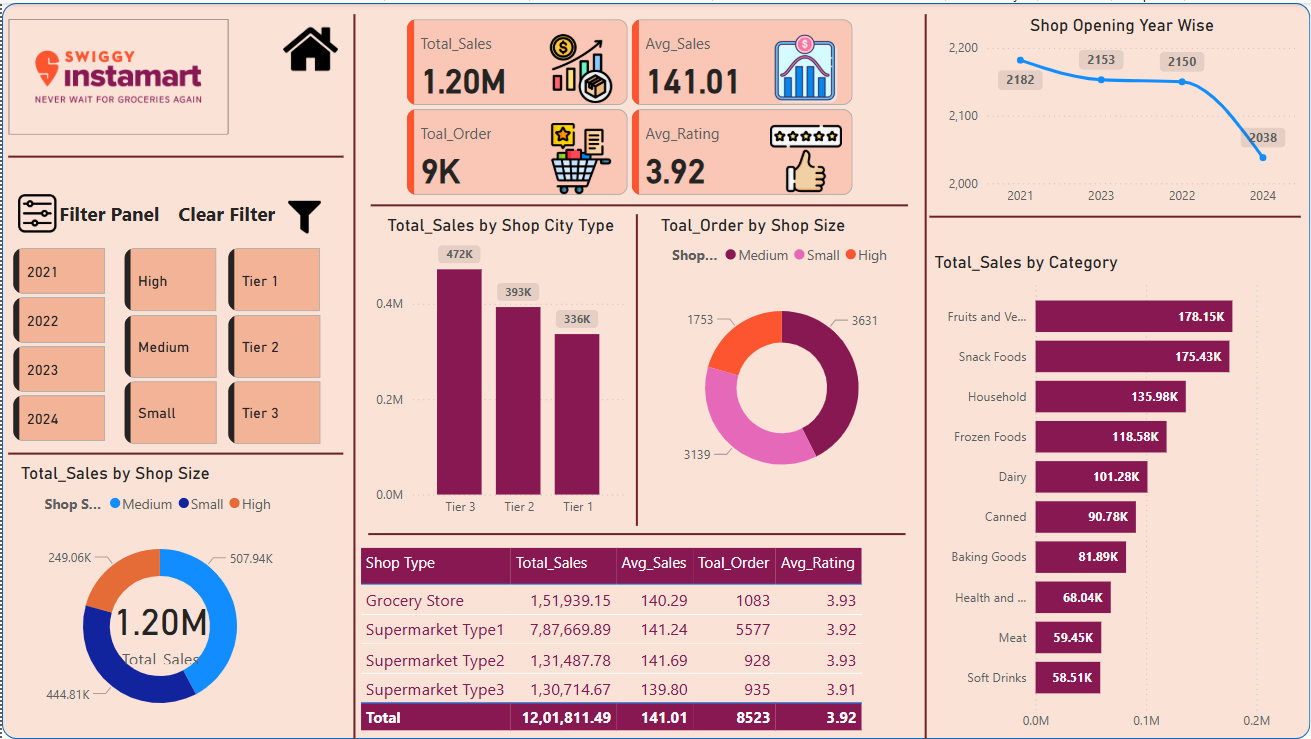

This screenshot's page, from the dashboard's own definition file:
{"tool":"powerbi","page":{"name":"INSTA MART DAHBOARD","canvas":[1280,720],"ordinal":0},"visuals":[{"type":"shape","box":[0,0,1280.3,720.2],"z":0},{"type":"image","box":[0,11,228.7,122.3],"z":1000},{"type":"cardVisual","fields":{"Data":["Grocery Shop.Total_Sales","Grocery Shop.Avg_Sales","Grocery Shop.Toal_Order","Grocery Shop.Avg_Rating"]},"box":[391.3,11,446.3,183.4],"z":2000},{"type":"donutChart","fields":{"Category":["Grocery Shop.Shop Size"],"Y":["Grocery Shop.Total_Sales"]},"box":[13.5,450,282.5,270.2],"z":3000},{"type":"card","fields":{"Values":["Grocery Shop.Total_Sales"]},"box":[102.7,574.7,105.2,77],"z":4000},{"type":"clusteredColumnChart","fields":{"Category":["Grocery Shop.Shop City Type"],"Y":["Grocery Shop.Total_Sales"]},"box":[360.7,206.7,254.3,304.5],"z":5000},{"type":"donutChart","fields":{"Category":["Grocery Shop.Shop Size"],"Y":["Grocery Shop.Toal_Order"]},"box":[639.5,206.7,247,291],"z":6000},{"type":"tableEx","fields":{"Values":["Grocery Shop.Shop Type","Grocery Shop.Total_Sales","Grocery Shop.Avg_Sales","Grocery Shop.Toal_Order","Grocery Shop.Avg_Rating"]},"box":[344.4,528.3,502.2,192.1],"z":7000},{"type":"lineChart","title":"Shop Opening Year Wise","fields":{"Category":["Grocery Shop.Shop Opening Year"],"Y":["CountNonNull(Grocery Shop.Shop Opening Year)"]},"box":[920.8,11,349.7,195.7],"z":8000},{"type":"clusteredBarChart","fields":{"Y":["Grocery Shop.Total_Sales"],"Category":["Grocery Shop.Category"]},"box":[907,242.9,363.6,477.5],"z":9000},{"type":"advancedSlicerVisual","fields":{"Values":["Grocery Shop.Shop Opening Year"]},"box":[6.6,234.5,100.3,203],"z":10000},{"type":"advancedSlicerVisual","fields":{"Values":["Grocery Shop.Shop Size"]},"box":[115.4,234.5,100.3,203],"z":11000},{"type":"advancedSlicerVisual","fields":{"Values":["Grocery Shop.Shop City Type"]},"box":[216.9,234.5,100.3,203],"z":12000},{"type":"textbox","box":[6.6,188.1,161.4,46.5],"z":13000},{"type":"textbox","box":[168,188.1,121.1,44],"z":15000},{"type":"image","box":[275.6,186.8,41.6,45.2],"z":16000},{"type":"image","box":[270.2,11,63.6,68.5],"z":17000},{"type":"shape","box":[6.1,144.3,327.7,12.2],"z":18000},{"type":"shape","box":[341.2,11,7.3,709.2],"z":19000},{"type":"shape","box":[900,11,7.3,709.2],"z":20000},{"type":"shape","box":[615.1,206.7,12.2,304.5],"z":21000},{"type":"shape","box":[6.1,431.7,327.7,18.3],"z":22000},{"type":"shape","box":[360.7,189.5,525.8,17.1],"z":23000},{"type":"shape","box":[358.3,511.1,525.8,17.1],"z":24000},{"type":"shape","box":[907.3,206.7,363.2,4.9],"z":25000},{"type":"image","box":[6.1,182.2,56.3,47.7],"z":25001}]}

Visuals, with their boxes in screenshot pixels (x1, y1, x2, y2), scaled from the page's 1280x720 canvas onto the 1311x739 screenshot:
shape: (0,0,1310,738)
image: (0,11,234,137)
cardVisual - Grocery Shop.Total_Sales x Grocery Shop.Avg_Sales: (401,11,858,200)
donutChart - Grocery Shop.Shop Size x Grocery Shop.Total_Sales: (14,462,303,738)
card - Grocery Shop.Total_Sales: (105,590,213,669)
clusteredColumnChart - Grocery Shop.Shop City Type x Grocery Shop.Total_Sales: (369,212,630,525)
donutChart - Grocery Shop.Shop Size x Grocery Shop.Toal_Order: (655,212,908,511)
tableEx - Grocery Shop.Shop Type x Grocery Shop.Total_Sales: (353,542,867,738)
"Shop Opening Year Wise" lineChart: (943,11,1301,212)
clusteredBarChart - Grocery Shop.Total_Sales x Grocery Shop.Category: (929,249,1301,738)
advancedSlicerVisual - Grocery Shop.Shop Opening Year: (7,241,109,449)
advancedSlicerVisual - Grocery Shop.Shop Size: (118,241,221,449)
advancedSlicerVisual - Grocery Shop.Shop City Type: (222,241,325,449)
textbox: (7,193,172,241)
textbox: (172,193,296,238)
image: (282,192,325,238)
image: (277,11,342,82)
shape: (6,148,342,161)
shape: (349,11,357,738)
shape: (922,11,929,738)
shape: (630,212,642,525)
shape: (6,443,342,462)
shape: (369,195,908,212)
shape: (367,525,906,542)
shape: (929,212,1301,217)
image: (6,187,64,236)
